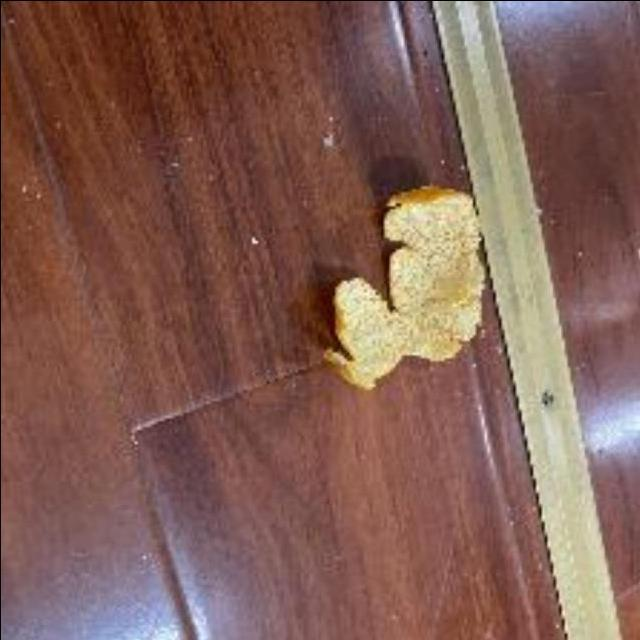orange peel: (314, 180, 492, 393)
